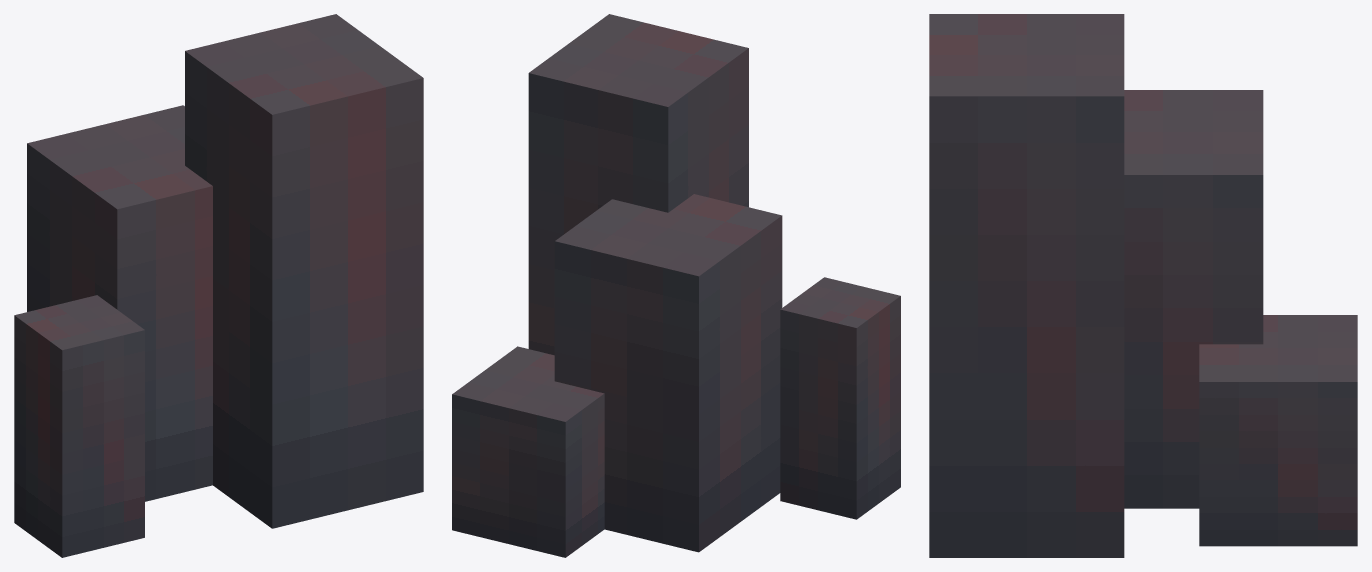
File: hematite_crystal_four.obj
3 renders of one model, left to right at view 1: azimuth 30°, elevation 25°; view 2: azimuth 150°, elevation 25°; view 3: azimuth 270°, elevation 25°, orthographic. The views are drawn at different scales.
Visible parts, largest first — view 1: Crystal5_Cube.008; view 2: Crystal5_Cube.008; view 3: Crystal5_Cube.008.
Part boxes in pixels (<box>): Crystal5_Cube.008: <box>14,14,423,557</box>; Crystal5_Cube.008: <box>452,14,900,557</box>; Crystal5_Cube.008: <box>929,14,1357,557</box>.
Size of the model in its own units: 0.4231 by 0.494 by 0.4151.
